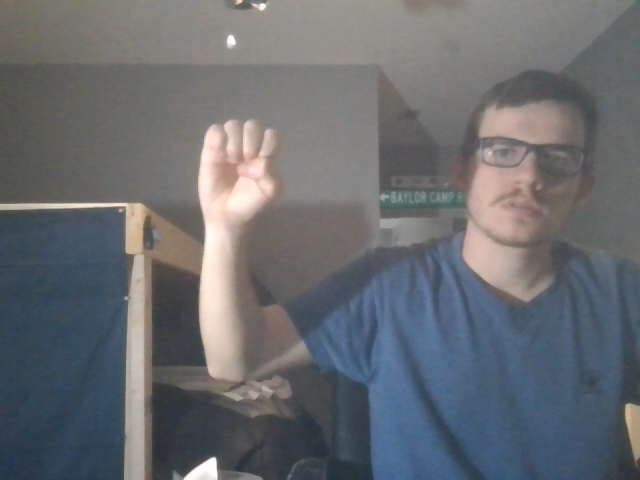E: (188, 114, 296, 228)
